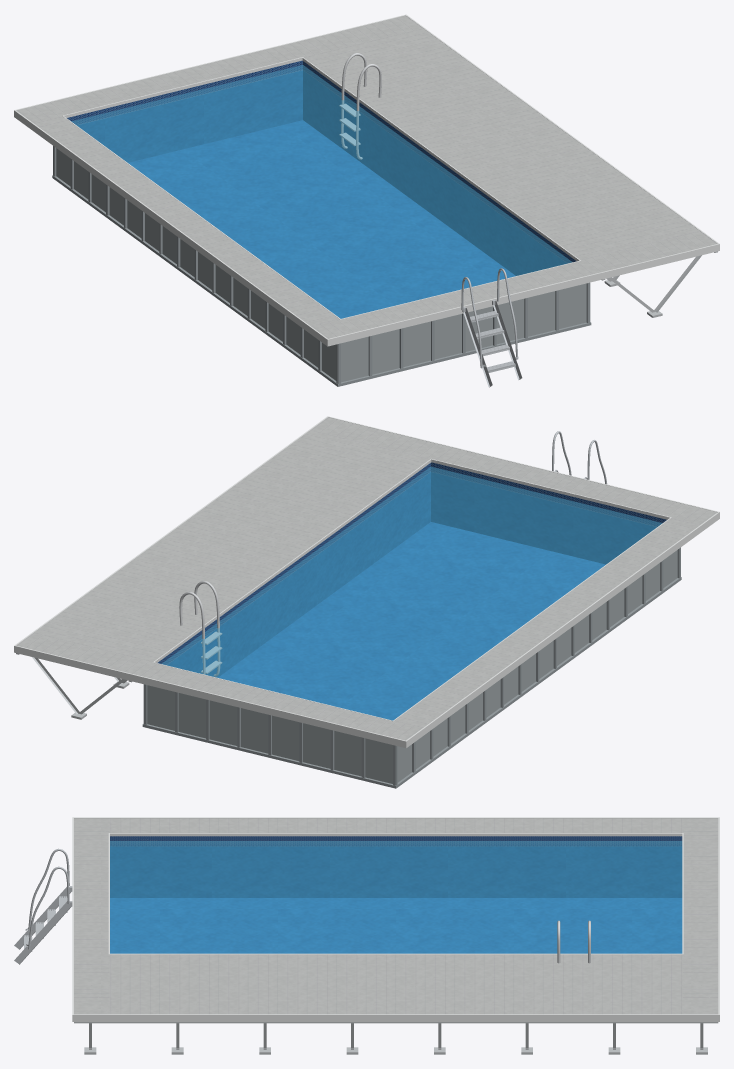
The model's file is kayak-pool-16x32-gray-side-ag-nofence.859419a036.glb.
3 views of the same model, one above another, from view 1: azimuth 30°, elevation 25°; view 2: azimuth 150°, elevation 25°; view 3: azimuth 270°, elevation 25° (orthographic). The views are drawn at different scales.
Parts seen in each view (by area): view 1: water, deck, liner_floor, liner_wall, wall, fascia, upright, ladder, steel, stud; view 2: water, deck, liner_floor, liner_wall, wall, fascia, upright, steel, stud; view 3: water, deck, liner_wall, liner_floor, fascia, stud, ladder.
Part boxes in pixels (bbox=[...]): water: bbox=[71, 65, 571, 318]; deck: bbox=[16, 15, 717, 338]; liner_floor: bbox=[128, 120, 515, 318]; liner_wall: bbox=[67, 60, 576, 275]; wall: bbox=[56, 148, 586, 382]; fascia: bbox=[14, 14, 719, 346]; upright: bbox=[52, 146, 591, 386]; ladder: bbox=[461, 268, 522, 387]; steel: bbox=[339, 53, 381, 159]; stud: bbox=[601, 251, 717, 317]; water: bbox=[162, 467, 662, 720]; deck: bbox=[16, 417, 717, 740]; liner_floor: bbox=[218, 522, 605, 720]; liner_wall: bbox=[158, 462, 666, 677]; wall: bbox=[147, 550, 677, 783]; fascia: bbox=[14, 416, 719, 748]; upright: bbox=[142, 547, 681, 788]; steel: bbox=[179, 581, 222, 676]; stud: bbox=[16, 653, 132, 719]; water: bbox=[110, 841, 682, 953]; deck: bbox=[74, 818, 718, 1014]; liner_wall: bbox=[110, 836, 682, 897]; liner_floor: bbox=[110, 898, 682, 953]; fascia: bbox=[72, 817, 719, 1021]; stud: bbox=[74, 1022, 718, 1054]; ladder: bbox=[14, 848, 72, 964].
Size of the model in its own units: 7.93 by 1.9 by 11.96.
10 materials, 3 textured.
